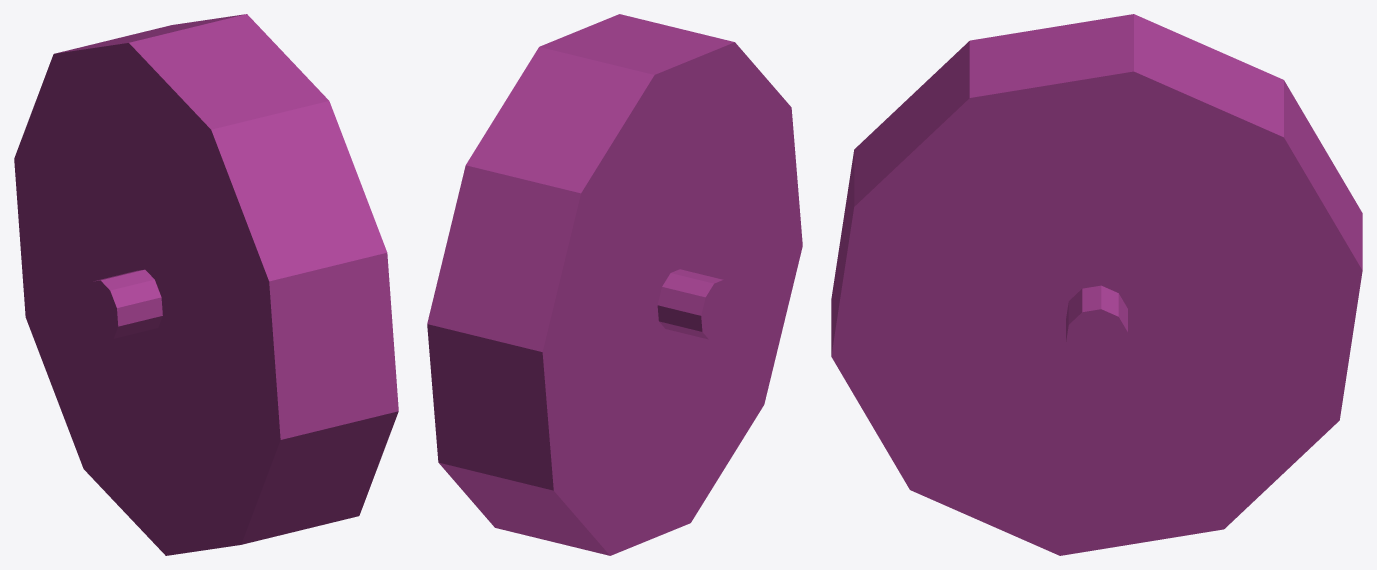
The model's file is SM_Bld_Mine_Wheel_Moving_01_Collision.fbx.
The picture shows the model from 3 angles, left to right: view 1: azimuth 30°, elevation 25°; view 2: azimuth 150°, elevation 25°; view 3: azimuth 270°, elevation 25°; orthographic projection. The views are drawn at different scales.
Parts seen in each view (by area): view 1: SM_Bld_Mine_Wheel_Moving_01_Collision; view 2: SM_Bld_Mine_Wheel_Moving_01_Collision; view 3: SM_Bld_Mine_Wheel_Moving_01_Collision.
Boxes of the visible parts, x1,y1,x2,y2 form: SM_Bld_Mine_Wheel_Moving_01_Collision: (14, 14, 398, 555); SM_Bld_Mine_Wheel_Moving_01_Collision: (427, 14, 802, 555); SM_Bld_Mine_Wheel_Moving_01_Collision: (831, 14, 1362, 555).
Bounding box in the file's own units: 600 × 1318 × 1310.
